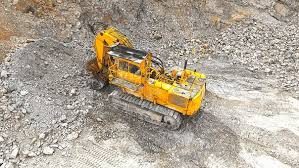excavator: (87, 27, 208, 129)
